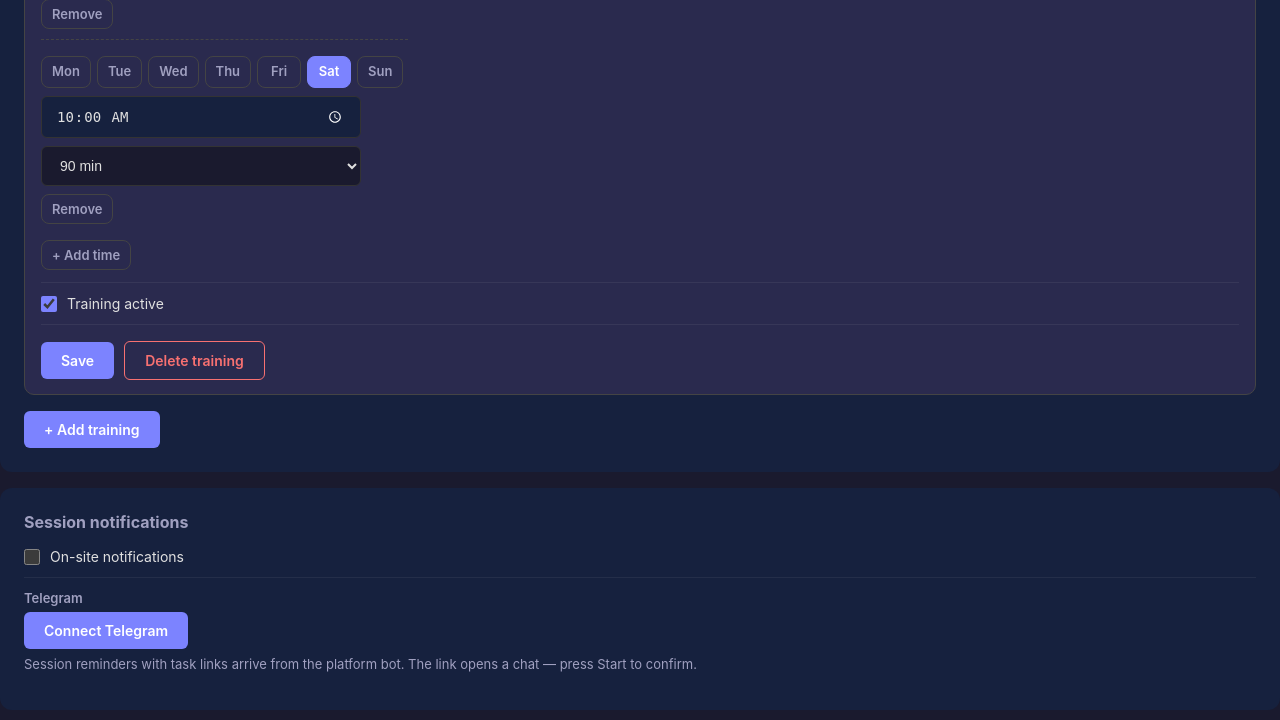
Scenario: StudyTab (KS-4928) › ошибка 400 из API (пересечение слотов) показывается в карточке
(page scrolled)
Click the button with test id "study-schedule-save": (78, 361) [41, 342, 114, 379]
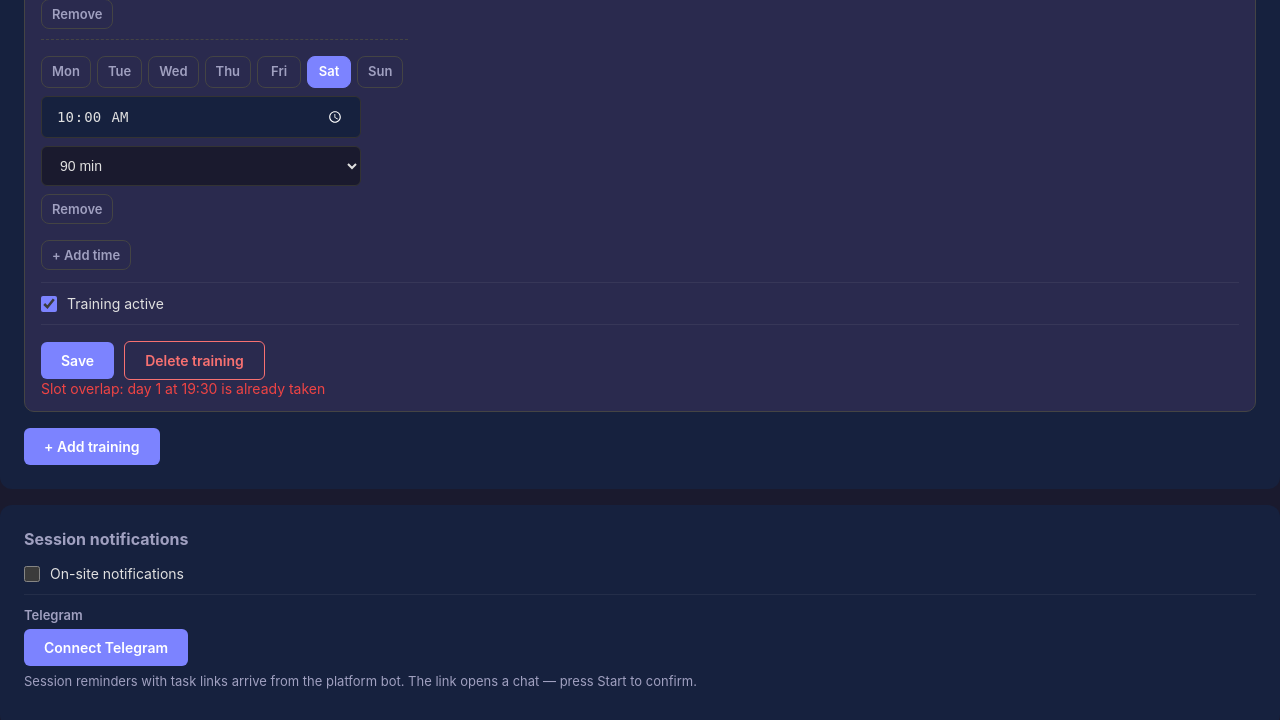
Expected: the text with test id "study-schedule-error" shows "Slot overlap", [41, 380, 325, 397]
